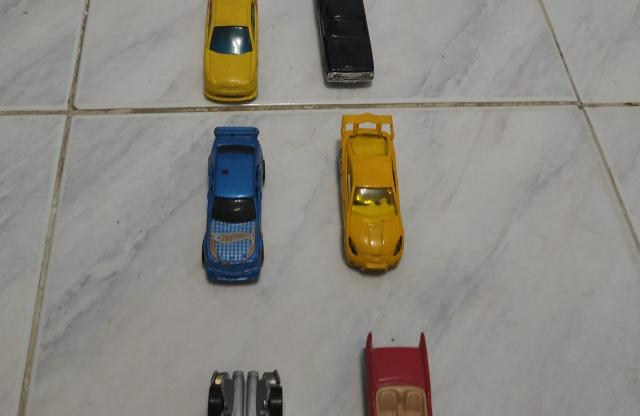01_FORD: (315, 0, 376, 89)
02_OZSOME: (203, 0, 259, 106)
03_V8: (363, 328, 432, 416)
04_MERZEDES: (201, 127, 265, 287)
05_DC121: (206, 369, 286, 416)
07_RHLTURBO: (336, 112, 405, 279)
